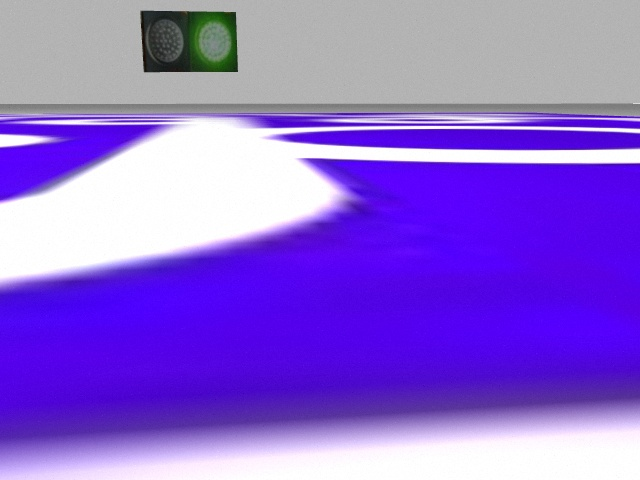green: (189, 11, 238, 72)
